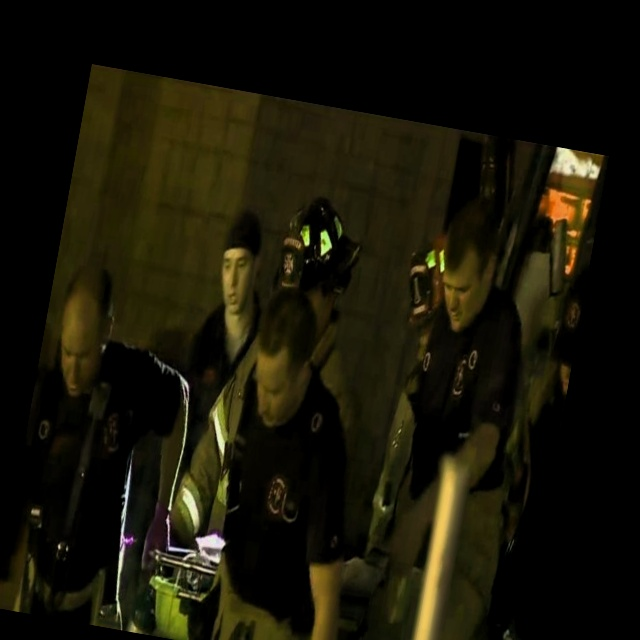Con_Casco: (270, 190, 369, 310)
Sin_Casco_Mascarrilla: (50, 258, 121, 394), (211, 207, 269, 324)
